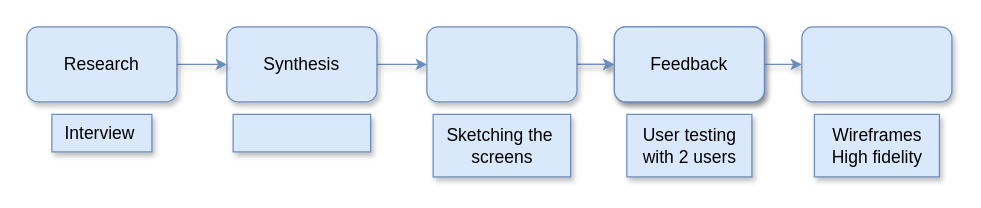
The diagram is 981 pixels wide and 208 high, and some of its shapes have lost their labels. The centre of each missing label's shape, as x and y in pixels:
"Ideation" goes at (502,66).
"Prototype" goes at (877,66).
"User persona" goes at (302,134).
